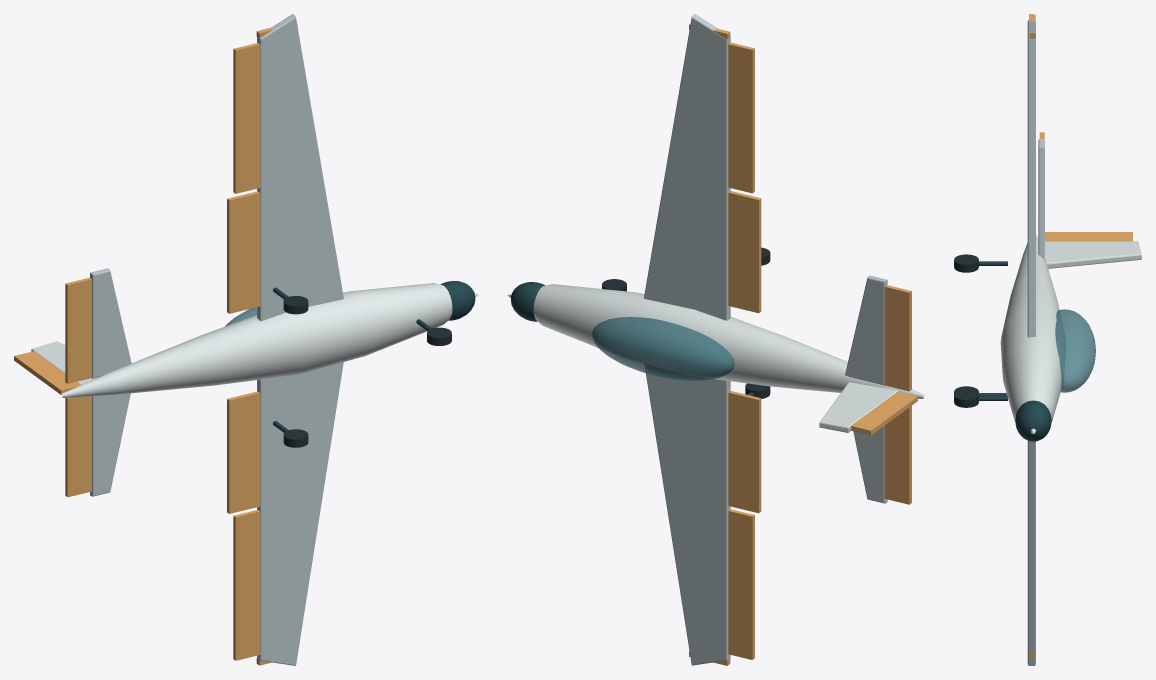
Rendered from aerolab-01.glb.
3 renders of one model, left to right at view 1: azimuth 30°, elevation 25°; view 2: azimuth 150°, elevation 25°; view 3: azimuth 270°, elevation 25°, orthographic.
Visible parts, largest first — view 1: Fuselage, WingRight, WingLeft, AileronLeft, AileronRight, FlapRight, FlapLeft, StabilizerRight, StabilizerLeft, ElevatorRight, ElevatorLeft, Rudder (+2 smaller); view 2: WingRight, Fuselage, WingLeft, Canopy, AileronLeft, FlapLeft, FlapRight, AileronRight, StabilizerRight, ElevatorRight, ElevatorLeft, Fin (+3 smaller); view 3: Fuselage, WingRight, Canopy, Fin, WingLeft, NoseCap, Rudder, StabilizerRight, Wheel1, Wheel2.
Boxes of the visible parts, left/top/right/bottom form: Fuselage: left=61, top=283, right=478, bottom=397; WingRight: left=257, top=14, right=343, bottom=321; WingLeft: left=257, top=362, right=343, bottom=665; AileronLeft: left=233, top=510, right=260, bottom=660; AileronRight: left=233, top=43, right=260, bottom=193; FlapRight: left=227, top=191, right=260, bottom=313; FlapLeft: left=227, top=391, right=260, bottom=513; StabilizerRight: left=90, top=268, right=131, bottom=378; StabilizerLeft: left=90, top=393, right=130, bottom=496; ElevatorRight: left=65, top=277, right=91, bottom=383; ElevatorLeft: left=65, top=396, right=91, bottom=497; Rudder: left=14, top=351, right=80, bottom=394; WingRight: left=644, top=14, right=730, bottom=320; Fuselage: left=507, top=284, right=924, bottom=398; WingLeft: left=645, top=364, right=730, bottom=665; Canopy: left=591, top=317, right=734, bottom=380; AileronLeft: left=728, top=509, right=754, bottom=659; FlapLeft: left=728, top=391, right=761, bottom=513; FlapRight: left=728, top=191, right=761, bottom=313; AileronRight: left=728, top=42, right=754, bottom=193; StabilizerRight: left=845, top=275, right=887, bottom=385; ElevatorRight: left=884, top=285, right=911, bottom=391; ElevatorLeft: left=884, top=406, right=911, bottom=504; Fin: left=819, top=382, right=898, bottom=432; Fuselage: left=1000, top=234, right=1065, bottom=433; WingRight: left=1027, top=20, right=1035, bottom=337; Canopy: left=1055, top=309, right=1095, bottom=392; Fin: left=1045, top=241, right=1141, bottom=268; WingLeft: left=1027, top=440, right=1035, bottom=665; NoseCap: left=1015, top=400, right=1051, bottom=441; Rudder: left=1045, top=232, right=1132, bottom=241; StabilizerRight: left=1038, top=139, right=1044, bottom=259; Wheel1: left=954, top=254, right=978, bottom=272; Wheel2: left=954, top=389, right=978, bottom=407.
Bounding box in the file's own units: 6.55 × 9.74 × 2.58.
